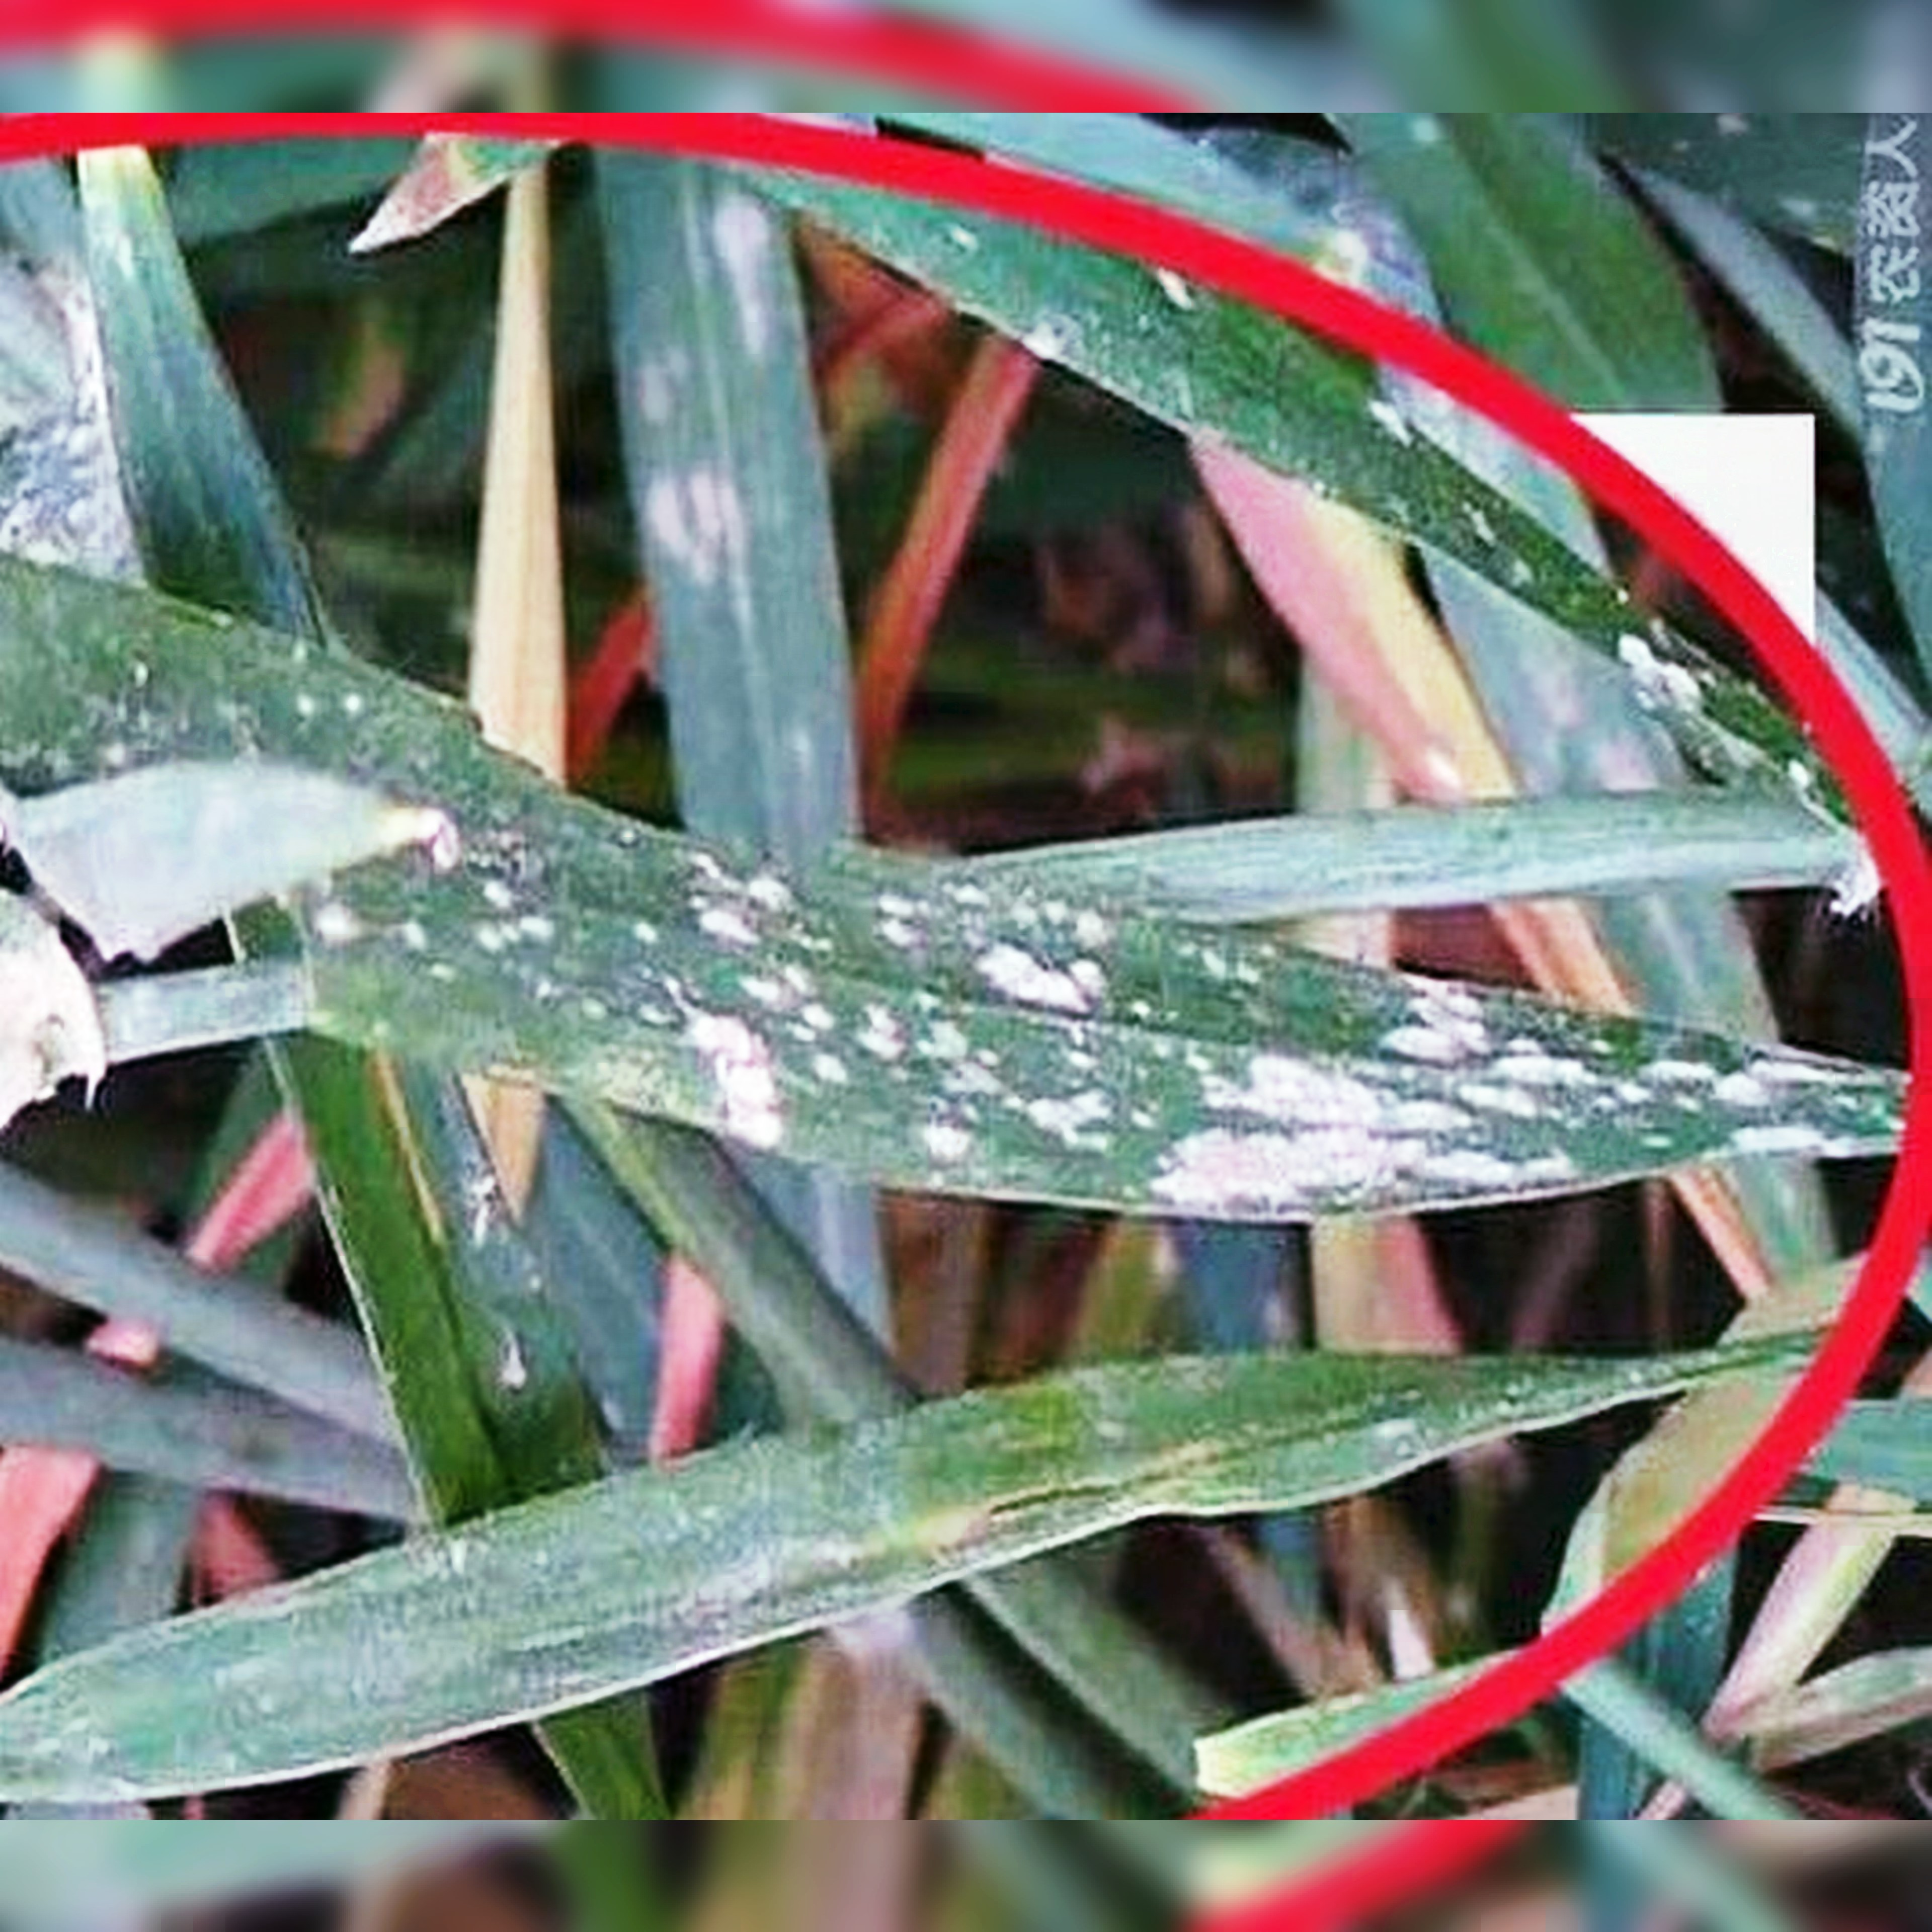Powdery Mildew: (651, 837, 1684, 1237)
